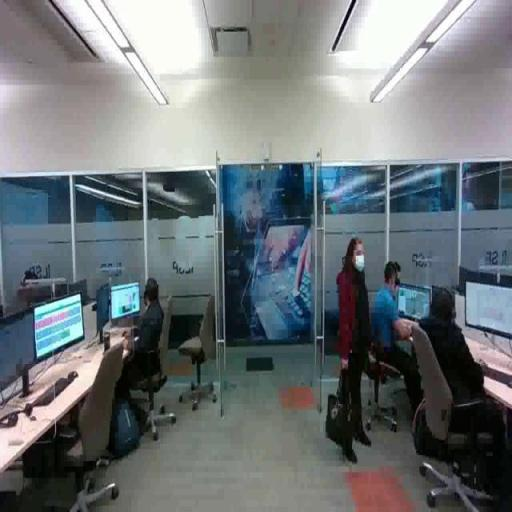person: (417, 285, 490, 446), (336, 238, 374, 467), (124, 277, 165, 441), (369, 261, 414, 380)
